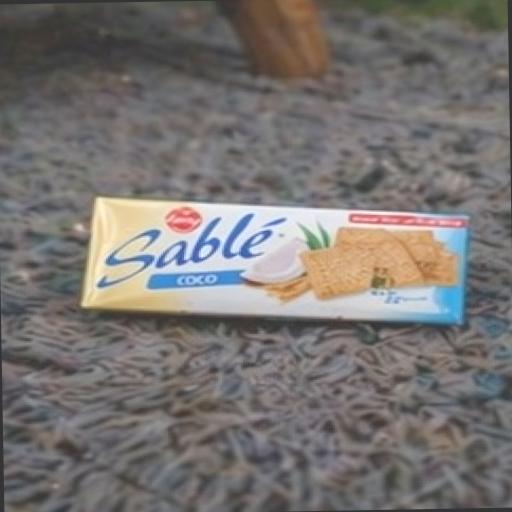sable: (36, 122, 512, 378)
